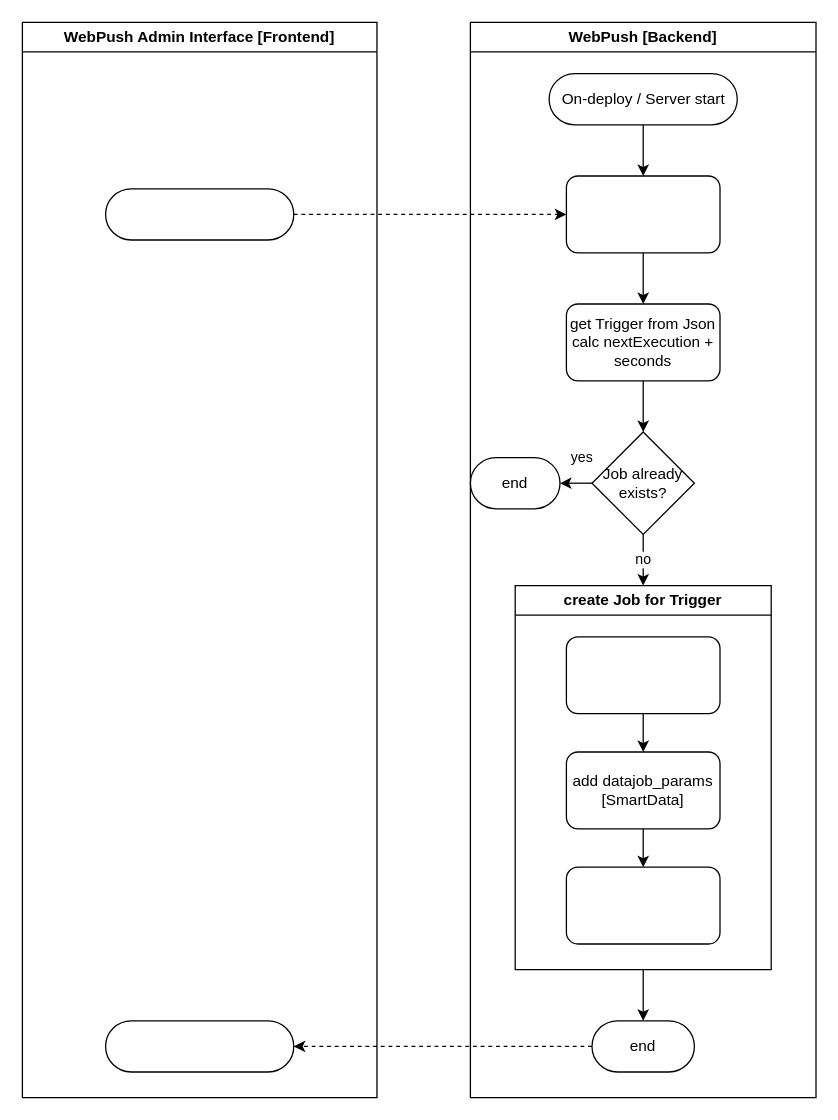
This 838x1120 diagram has some shape labels left out. The shapes that lost their labels are listed below. From the top down, each one's centre as x and y in pixels, then its label:
At (x=199, y=214): "create Trigger".
At (x=642, y=214): "Data preprocessing".
At (x=642, y=675): "add datajob [SmartData]".
At (x=642, y=905): "start/register datajob [SmartData]".
At (x=199, y=1046): "show Trigger".
